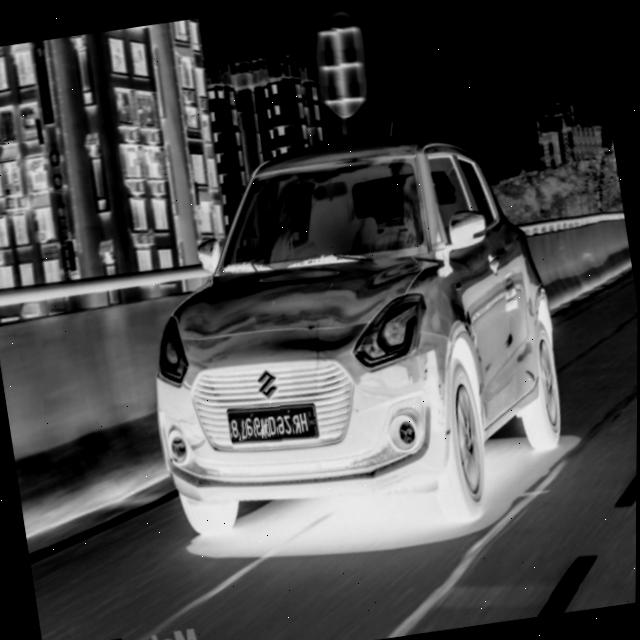2: (283, 412, 295, 435)
6: (276, 414, 287, 437), (245, 416, 256, 437)
7: (237, 416, 248, 439)
8: (230, 416, 241, 438)
9: (253, 415, 263, 437)
D: (268, 415, 279, 437)
H: (299, 412, 311, 435)
IND: (308, 415, 317, 426)
Indian_registered: (228, 403, 318, 442)
K: (261, 415, 271, 437)
R: (291, 412, 302, 435)
